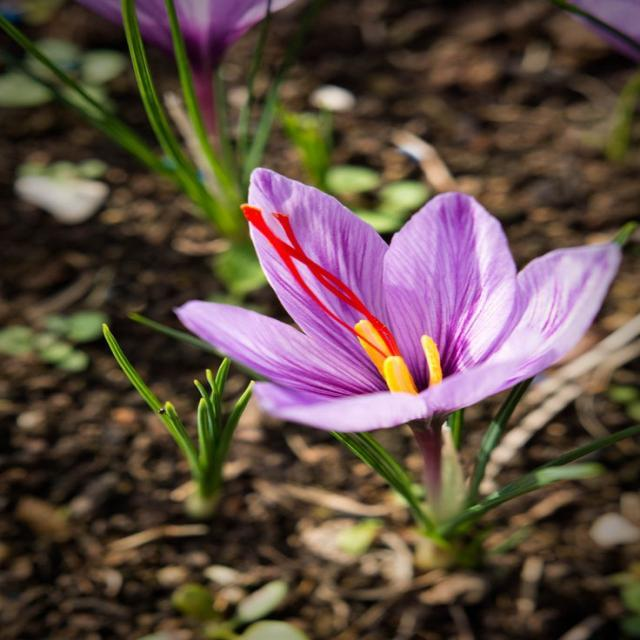Flower: (186, 170, 624, 448)
stigma: (240, 198, 357, 336), (275, 206, 376, 315)
